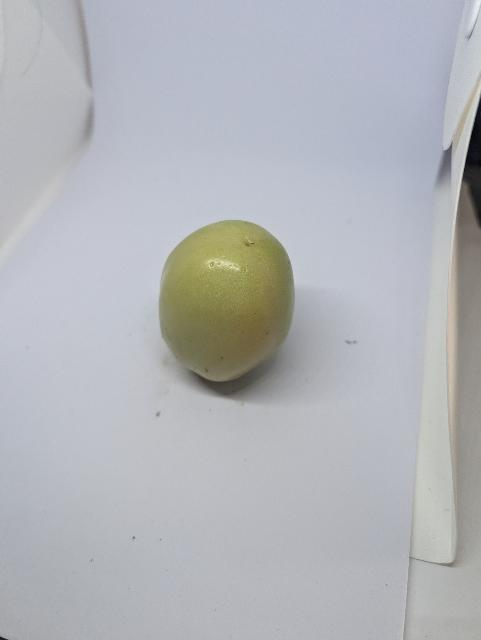green: (156, 218, 299, 383)
